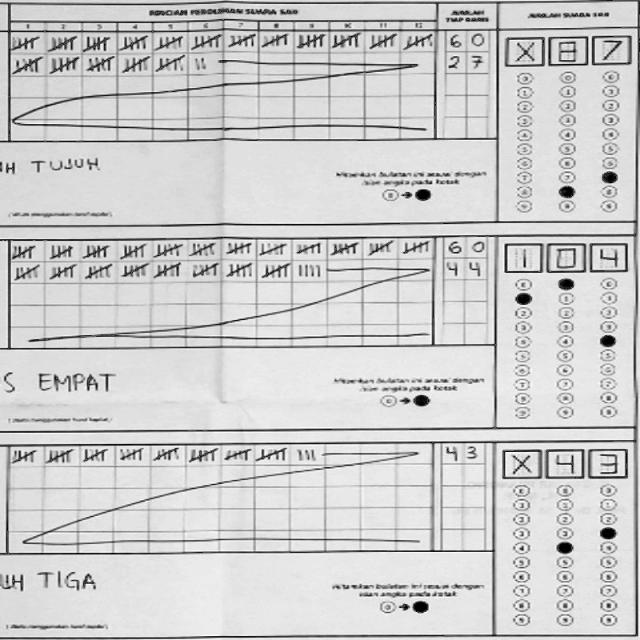Suara: (498, 240, 632, 276), (501, 33, 634, 69), (498, 445, 630, 481)
